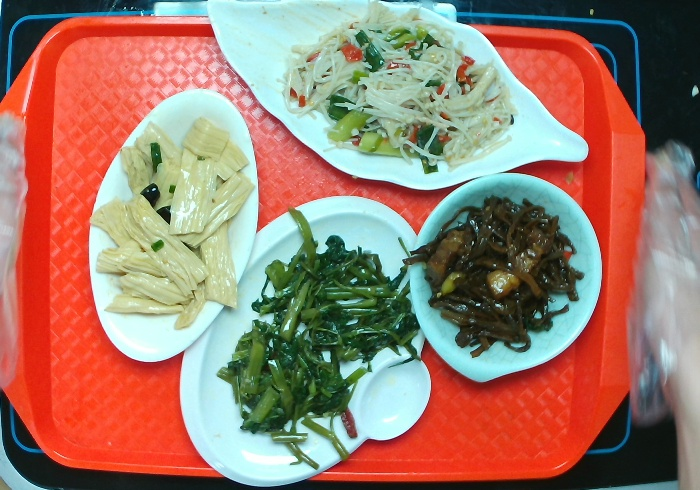RJxy-Bai_Se_Tuo_Yuan: (84, 88, 260, 365)
RJxy-Shu_Ye_Pan: (201, 1, 589, 187)
RJxy-Xiao_Jiao_Yuan_Wan: (407, 170, 605, 388)
RJxy-Zhan_Liao_Pan: (175, 195, 434, 489)
